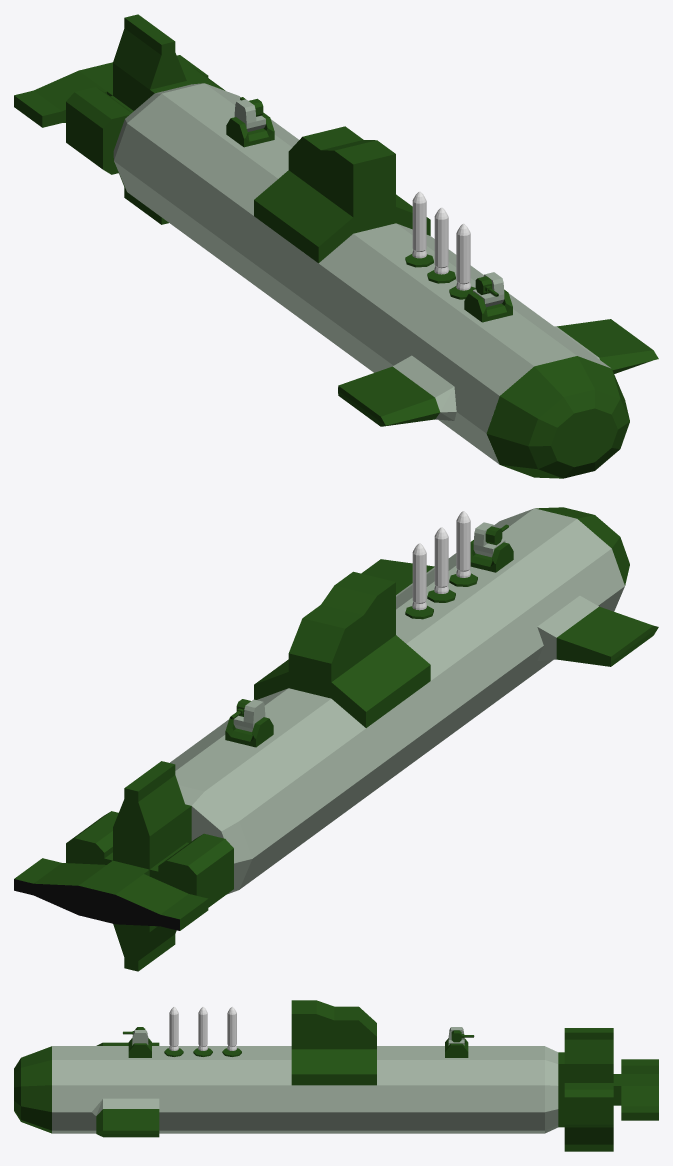
Rendered from combat_submarine_1.glb.
3 views of the same model, one above another, from view 1: azimuth 30°, elevation 25°; view 2: azimuth 150°, elevation 25°; view 3: azimuth 270°, elevation 25° (orthographic). The views are drawn at different scales.
Parts seen in each view (by area): view 1: base, turretbase_2_base, turretbase_1_base, conrocket_001.001, conrocket_001, conrocket_001.002; view 2: base, conrocket_001, conrocket_001.001, conrocket_001.002, turretbase_2_base, turretbase_1_base; view 3: base, conrocket_001, conrocket_001.001, conrocket_001.002, turretbase_1_base, turretbase_2_base.
Part boxes in pixels (<box>): base: <box>14,14,658,478</box>; turretbase_2_base: <box>226,112,274,147</box>; turretbase_1_base: <box>464,289,512,322</box>; conrocket_001.001: <box>434,207,448,274</box>; conrocket_001: <box>412,191,426,258</box>; conrocket_001.002: <box>456,223,470,290</box>; base: <box>14,507,658,971</box>; conrocket_001: <box>412,543,426,610</box>; conrocket_001.001: <box>434,527,448,593</box>; conrocket_001.002: <box>456,511,470,577</box>; turretbase_2_base: <box>225,717,273,747</box>; turretbase_1_base: <box>470,540,513,572</box>; base: <box>14,1000,658,1151</box>; conrocket_001: <box>227,1006,236,1050</box>; conrocket_001.001: <box>198,1007,207,1050</box>; conrocket_001.002: <box>169,1007,178,1050</box>; turretbase_1_base: <box>128,1038,151,1057</box>; turretbase_2_base: <box>445,1038,468,1057</box>.
Bounding box in the file's own units: 1.15 × 0.8679 × 3.57.
